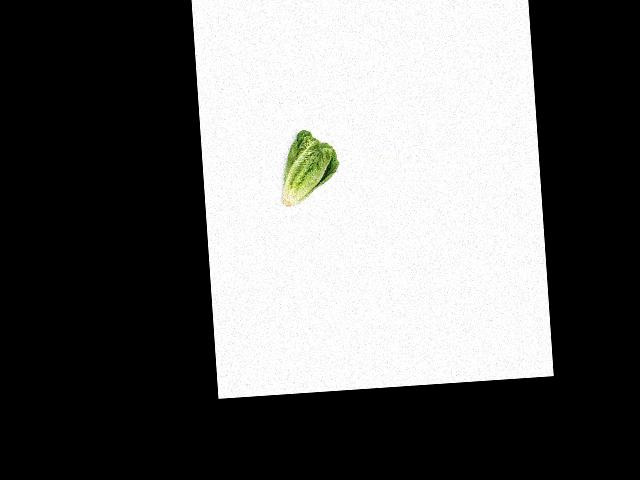lettuce: (276, 128, 341, 208)
